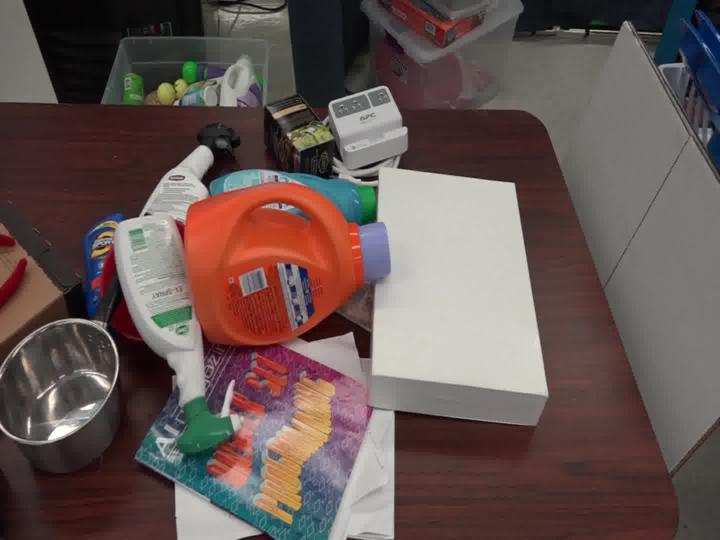tide: (159, 158, 393, 345)
